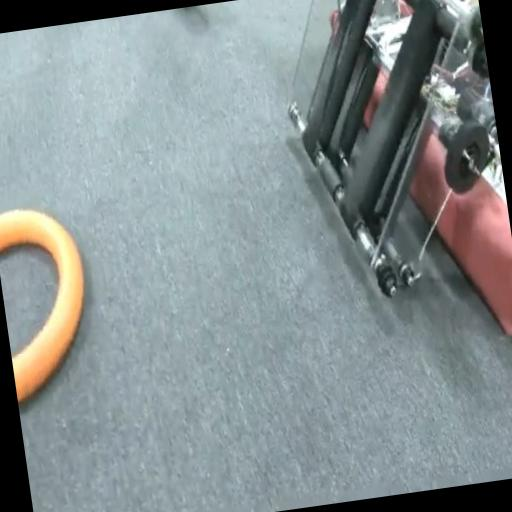robot: (269, 0, 512, 368)
